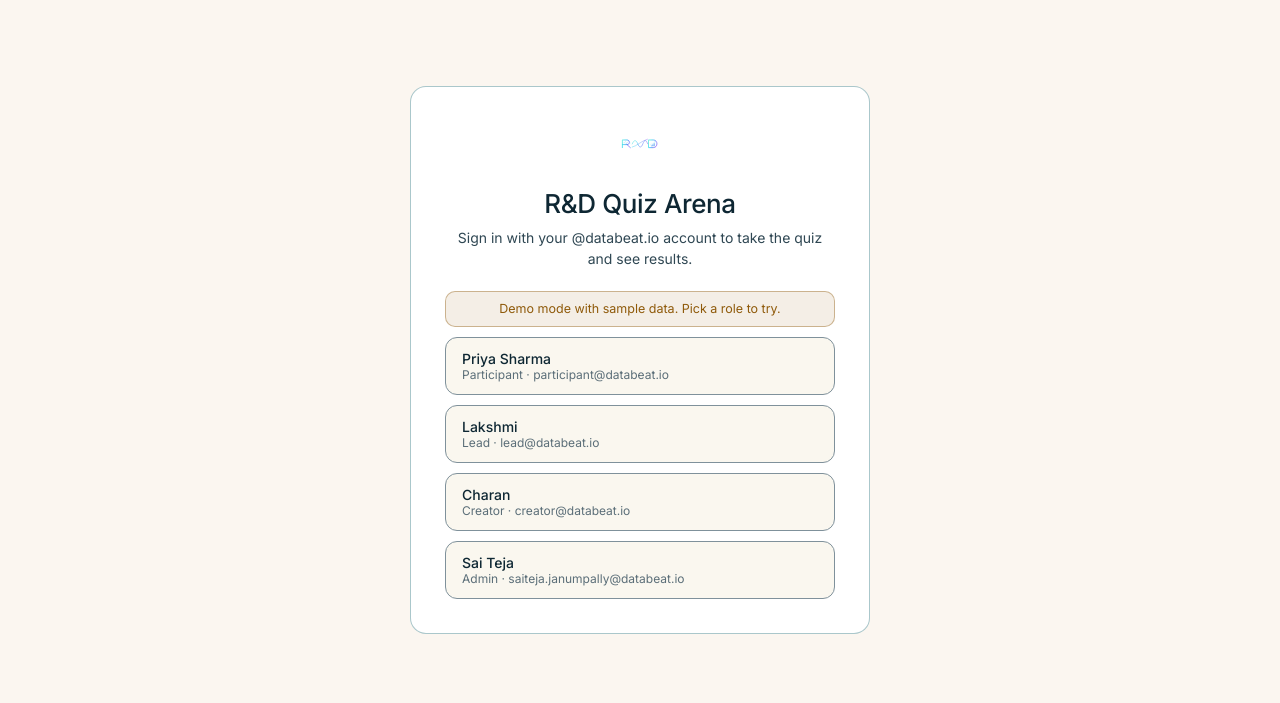
Test case: leaderboards › leads get a button to a separate full page, with the Rank change column and a fixed previous-round label
The image size is (1280, 703).
Click the button "Lakshmi Lead · lead@databeat.io" at (490, 427), box [445, 405, 835, 463]
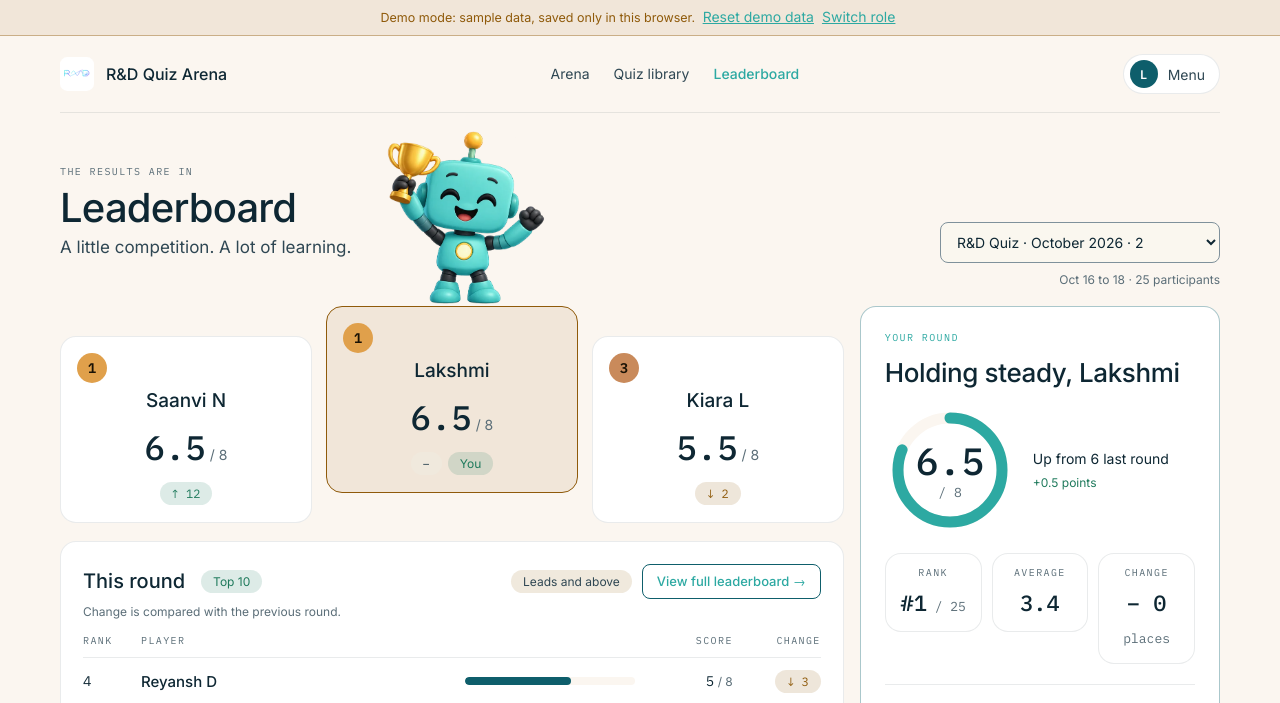
Click the link "View full leaderboard →" at (731, 581), box [642, 564, 821, 599]
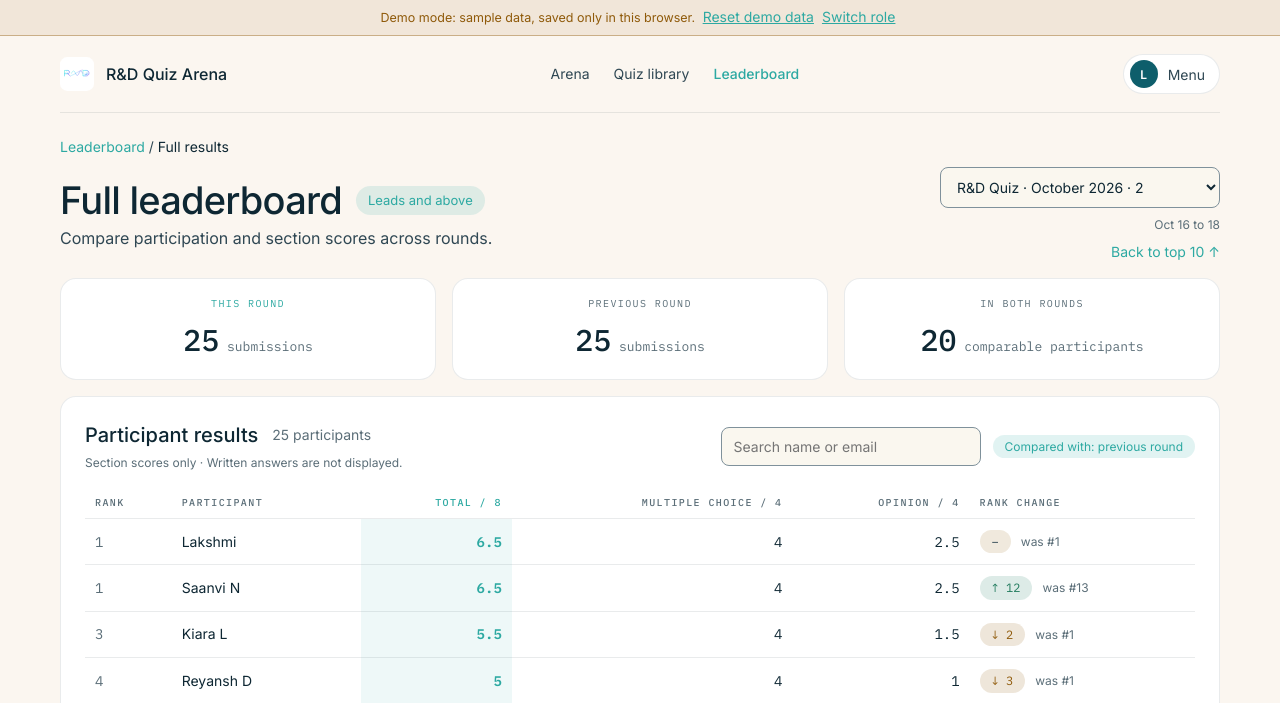
Expected: the heading "Full leaderboard" is shown, [60, 180, 342, 221]
Expected: the text "Compared with: previous round" is shown, [993, 435, 1195, 458]
Expected: the column heading "Rank change" is shown, [970, 488, 1195, 518]
